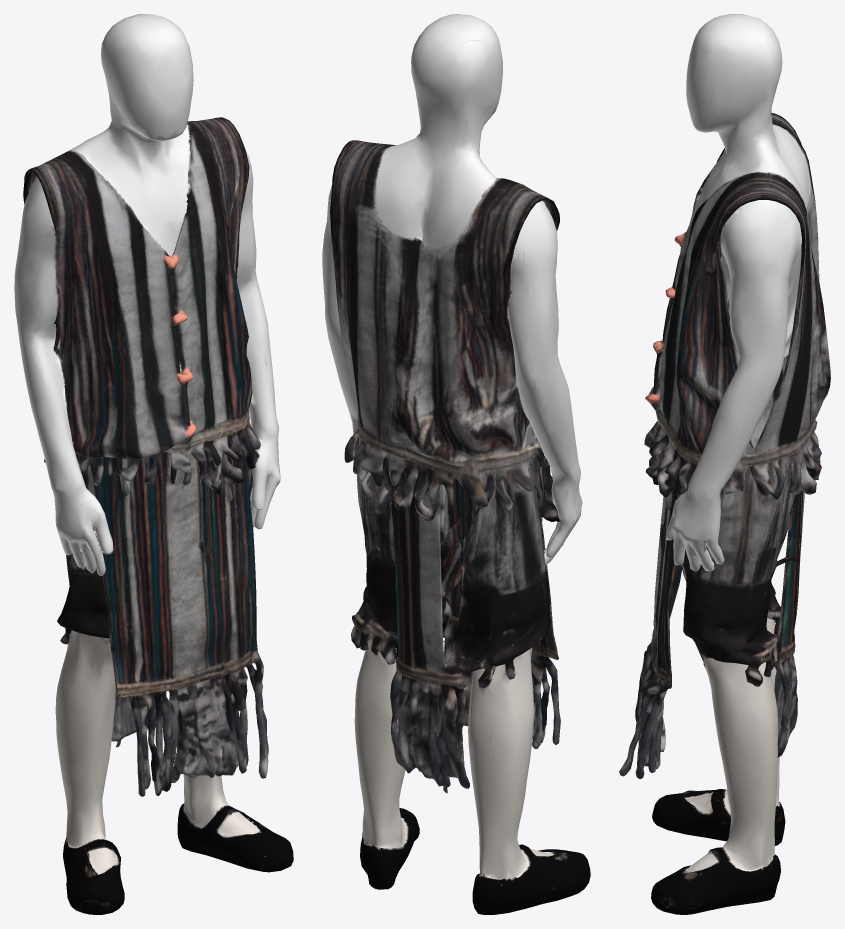
File: Co_ho_nam_00001.glb
3 views of the same model, side by side, from view 1: azimuth 30°, elevation 25°; view 2: azimuth 150°, elevation 25°; view 3: azimuth 270°, elevation 25° (orthographic). The views are drawn at different scales.
Size of the model in its own units: 0.2526 by 0.8886 by 0.2011.
1 material, 1 textured.
